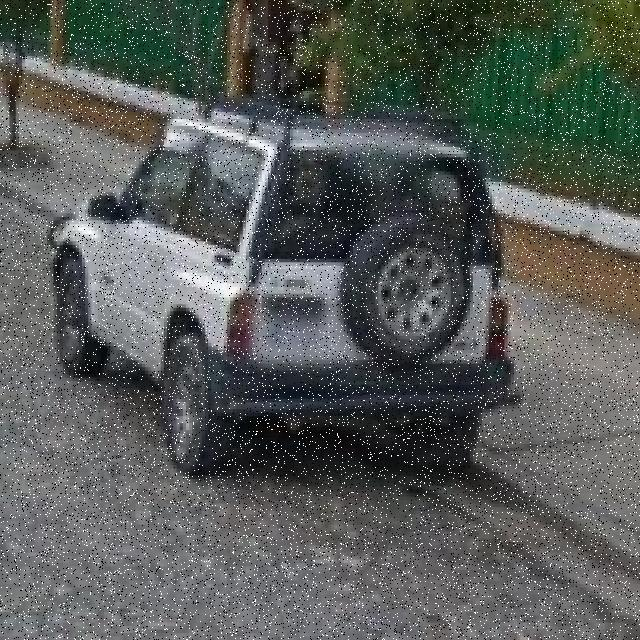cars: (55, 117, 518, 488)
